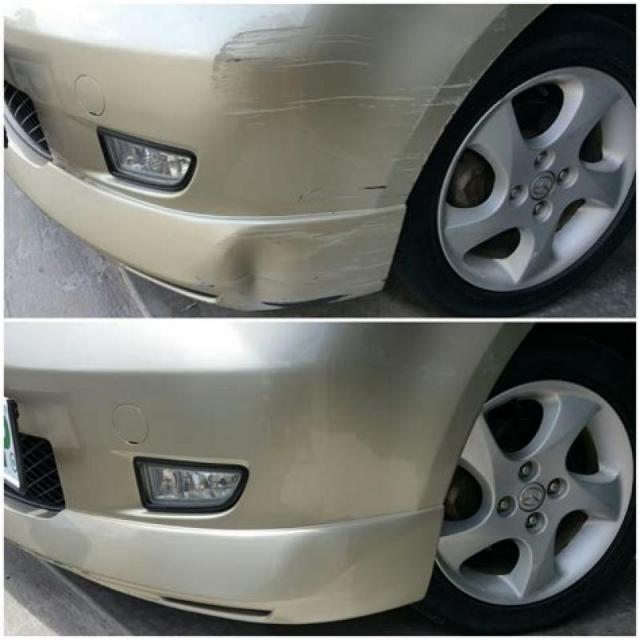car damage: (274, 424, 445, 617), (201, 231, 360, 315)
